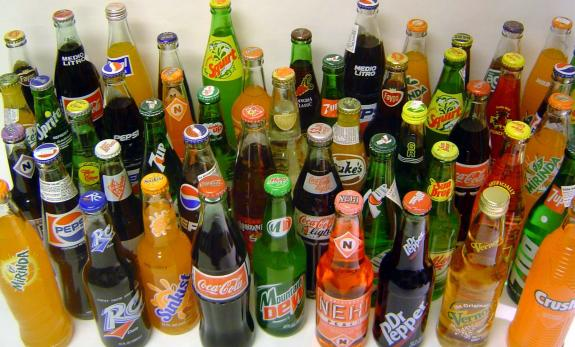Rec_Glass: (1, 3, 575, 346), (74, 189, 157, 346), (184, 171, 257, 345), (438, 166, 507, 346), (132, 170, 202, 335), (370, 191, 438, 345), (314, 188, 368, 345), (42, 6, 109, 116), (204, 1, 248, 116), (299, 123, 342, 240), (348, 1, 384, 100), (438, 48, 473, 132)
